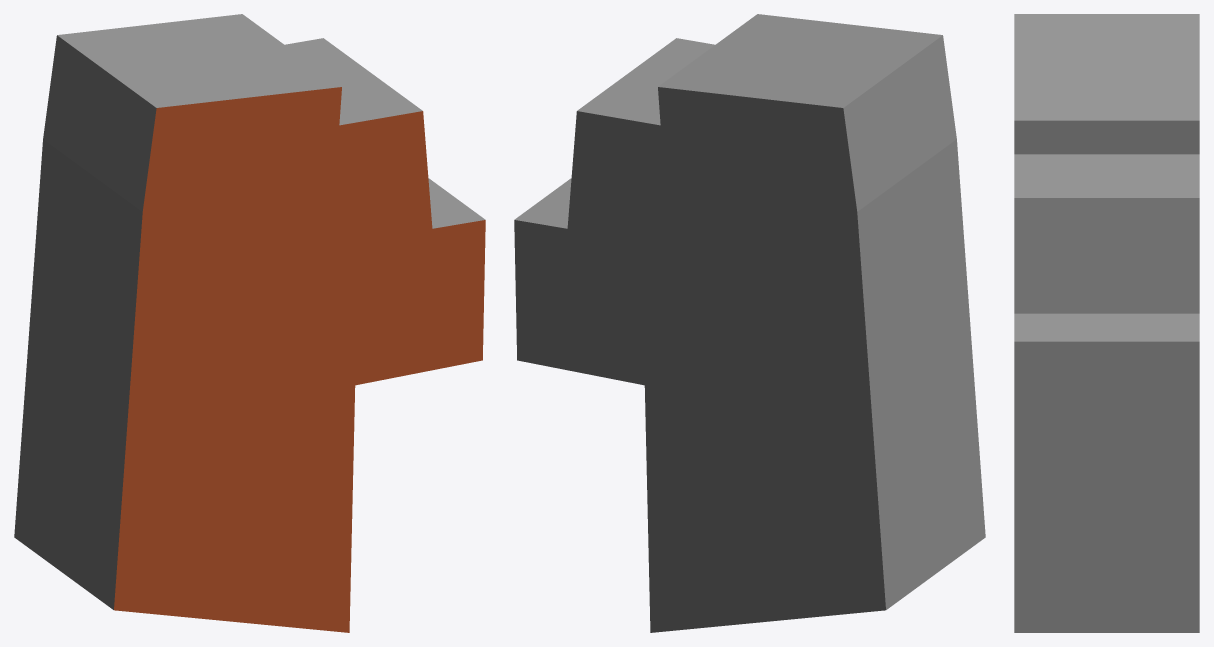
File: construction_4057_assumed_A_Casa_h6m.obj
The picture shows the model from 3 angles, left to right: view 1: azimuth 30°, elevation 25°; view 2: azimuth 150°, elevation 25°; view 3: azimuth 270°, elevation 25°; orthographic projection. The views are drawn at different scales.
Visible parts, largest first — view 1: construction_4057_assumed_A_Casa; view 2: construction_4057_assumed_A_Casa; view 3: construction_4057_assumed_A_Casa.
Boxes of the visible parts, x1,y1,x2,y2 form: construction_4057_assumed_A_Casa: (14, 14, 485, 632); construction_4057_assumed_A_Casa: (514, 14, 985, 632); construction_4057_assumed_A_Casa: (1014, 14, 1199, 632).
Bounding box in the file's own units: 12.93 × 19 × 6.
